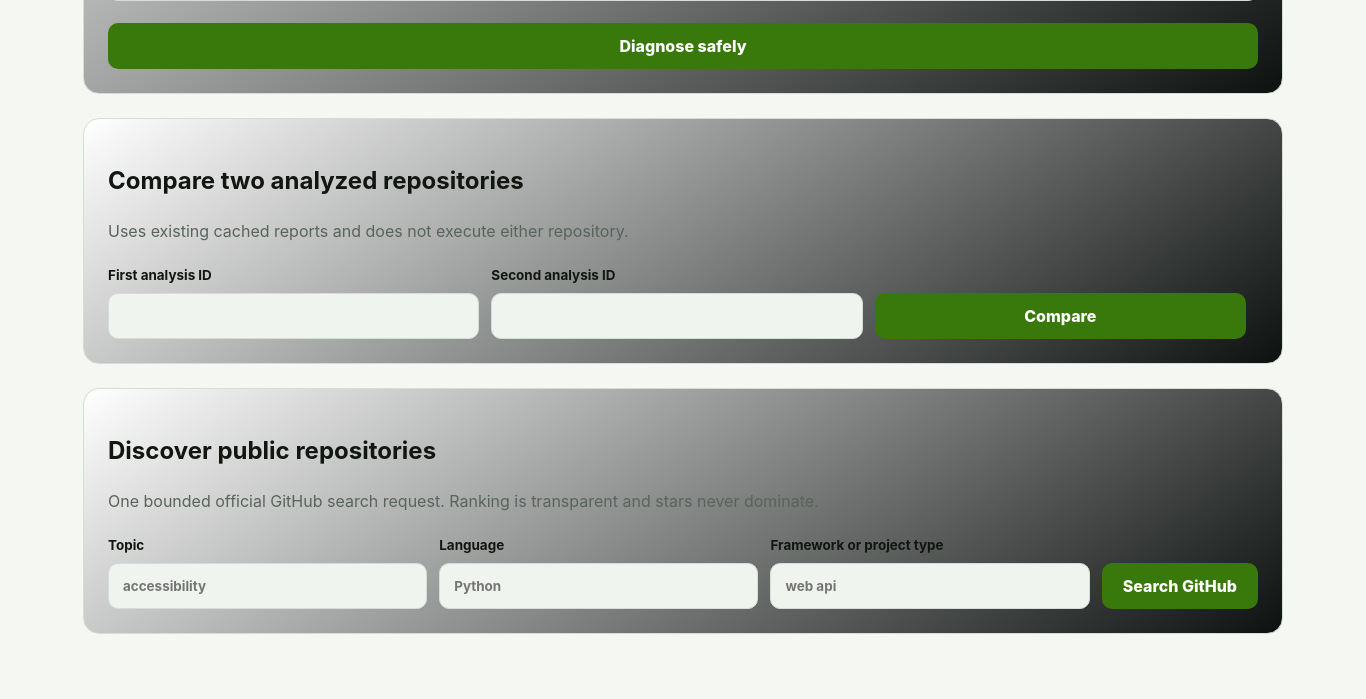
Scenario: product tools › renders a cached comparison table
The width and height of the screenshot is (1366, 699).
(page scrolled)
In the field labelled "First analysis ID": (294, 316) [108,293,479,339], type "left-id-1"
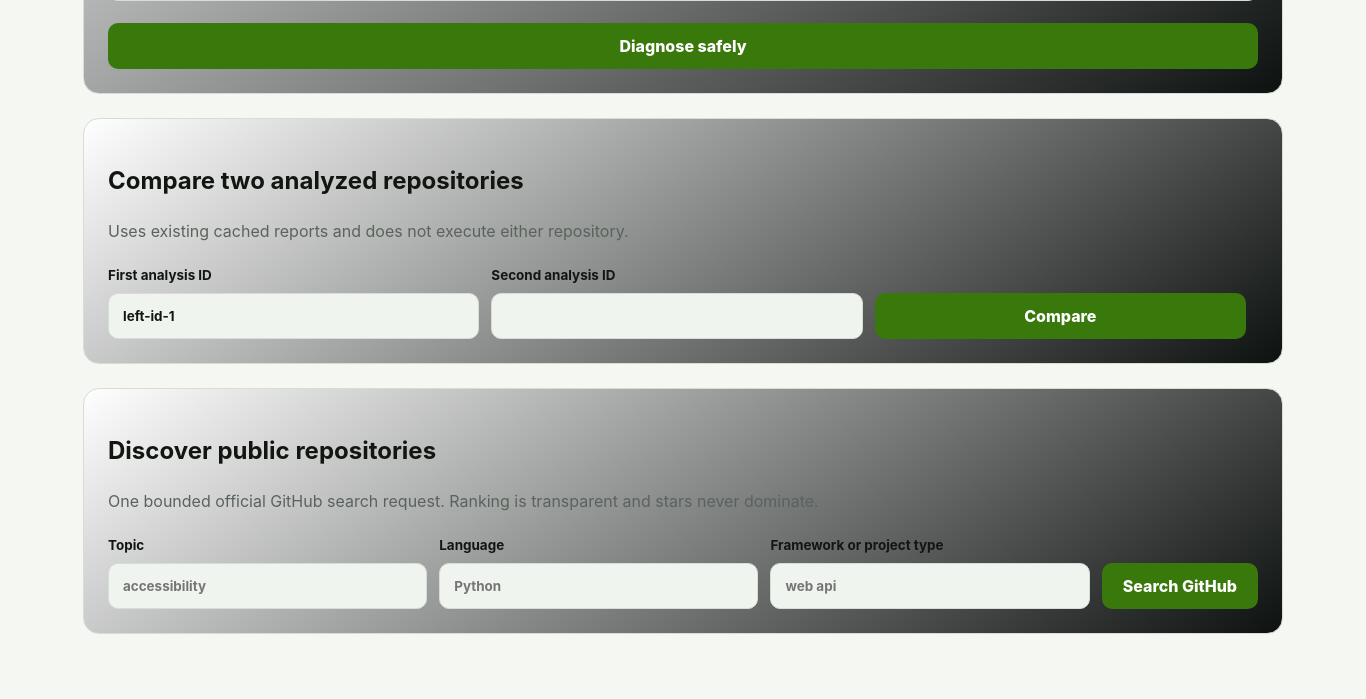
In the field labelled "Second analysis ID": (677, 316) [491,293,863,339], type "right-id-2"
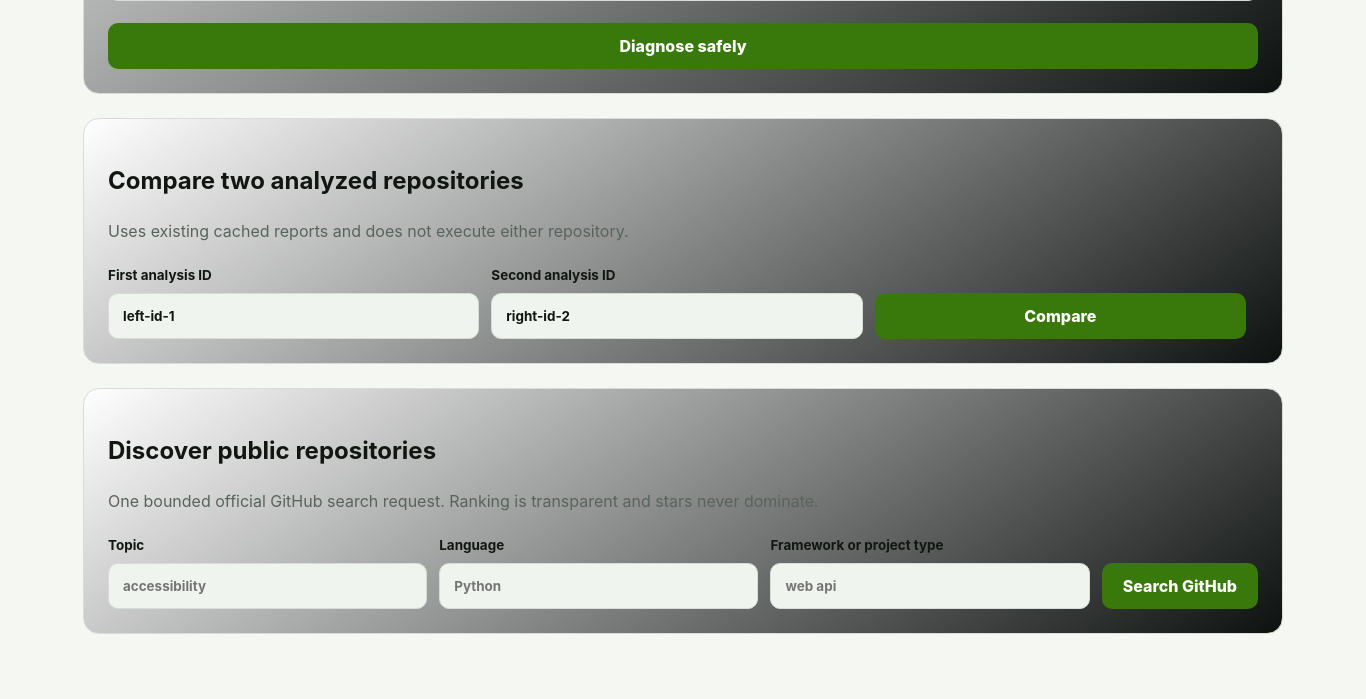
Click the button "Compare": (1060, 316) [875,293,1246,339]
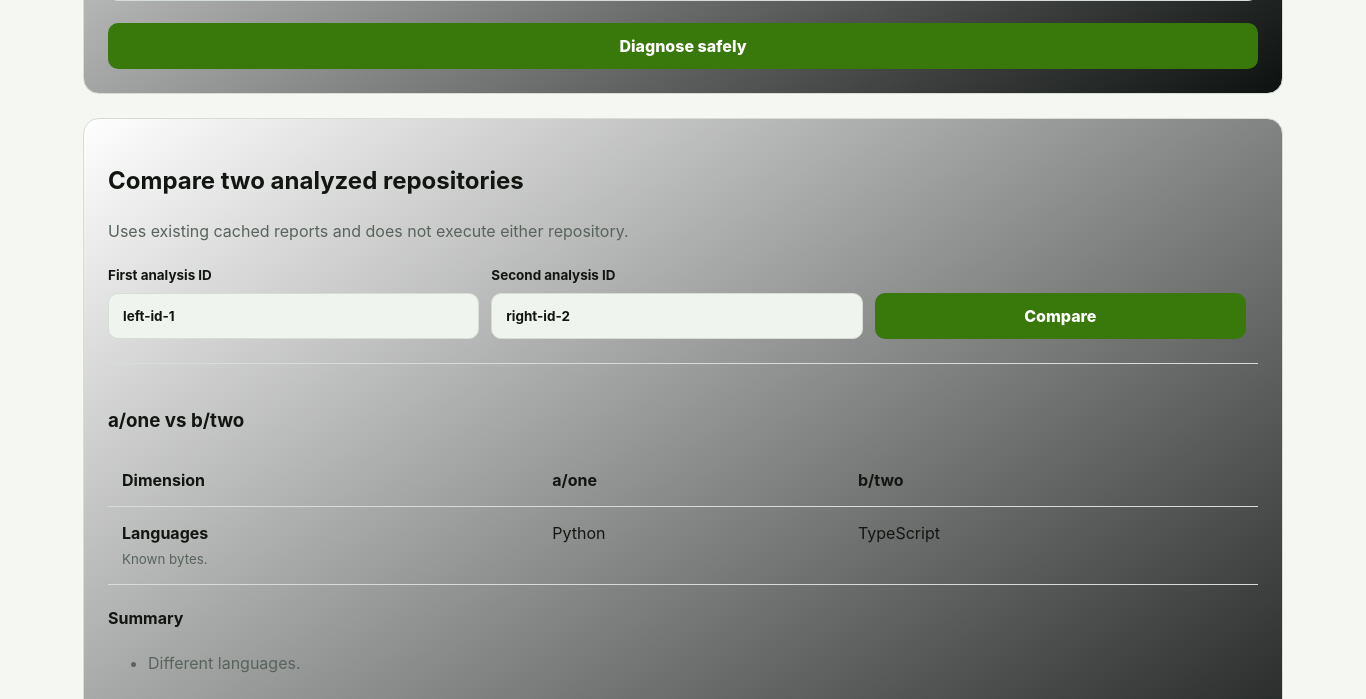
expect the heading "a/one vs b/two" is shown: met, box [108,409,244,432]
expect the table is shown: met, box [108,454,1258,585]
